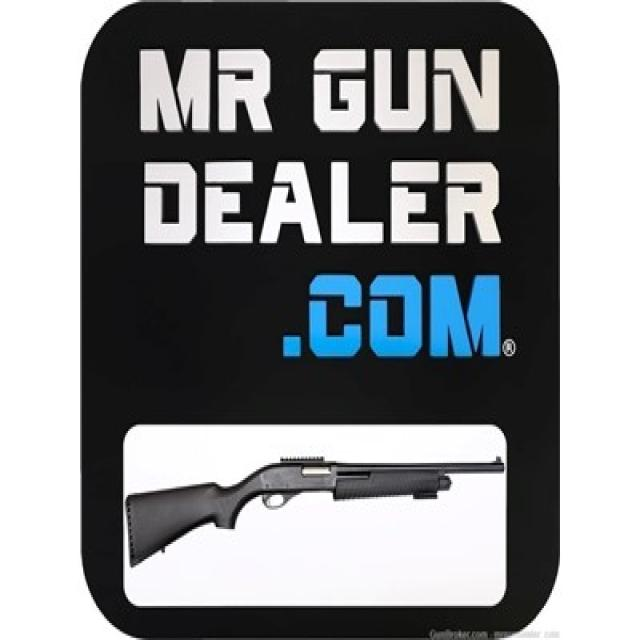ShotGun: (128, 459, 506, 567)
